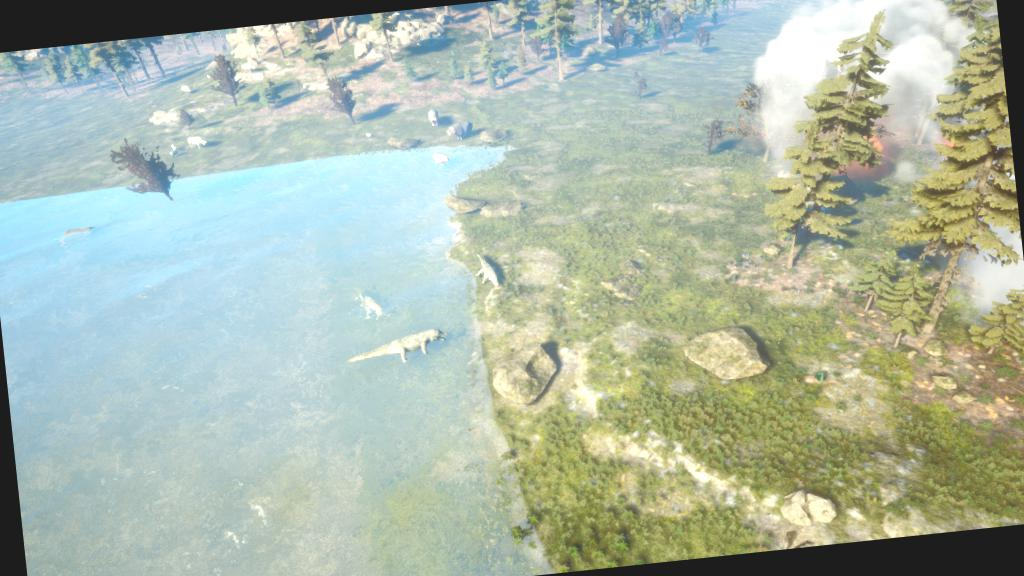crocodile: (340, 322, 456, 381), (472, 248, 508, 296)
hippopotamus: (428, 148, 457, 172)
smoke: (746, 0, 1003, 211)
